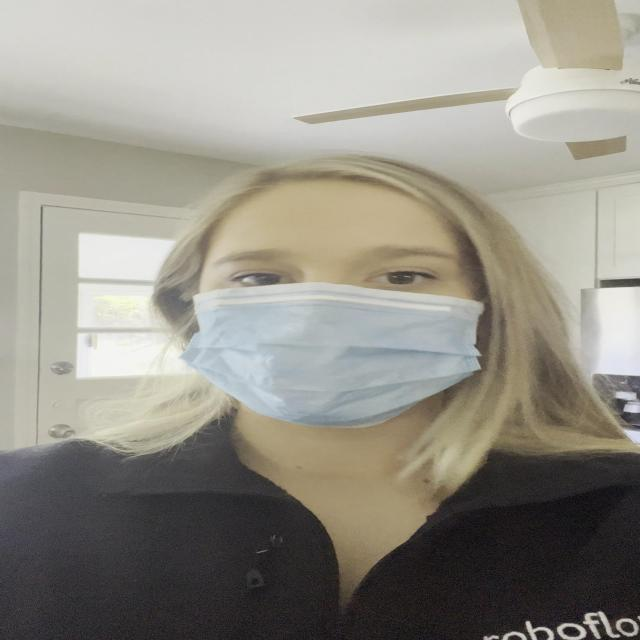no-helmet: (137, 172, 519, 448)
